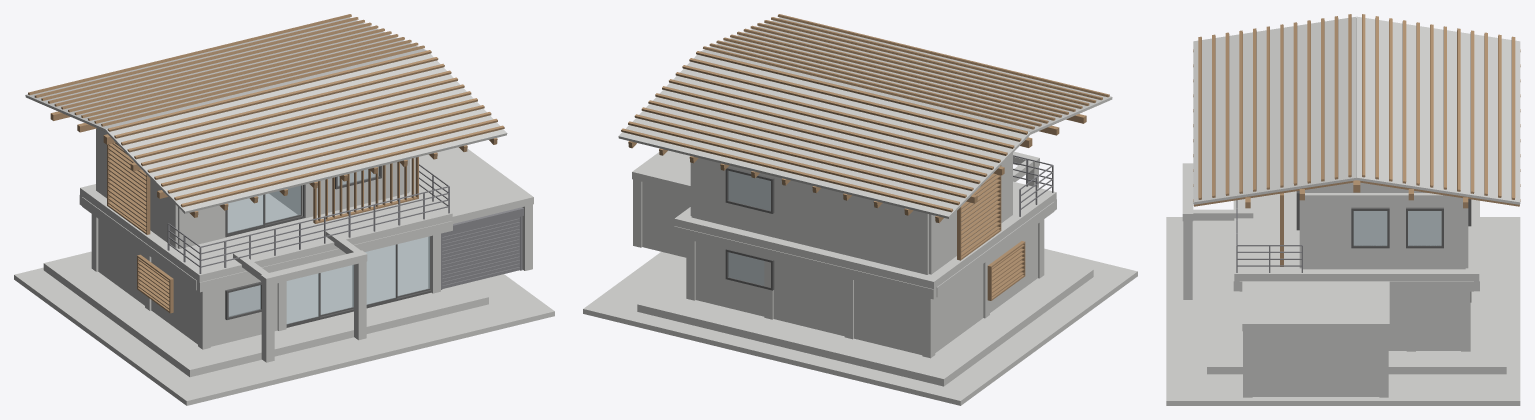
Rendered from casa_corrigida.glb.
3 views of the same model, side by side, from view 1: azimuth 30°, elevation 25°; view 2: azimuth 150°, elevation 25°; view 3: azimuth 270°, elevation 25° (orthographic). The views are drawn at different scales.
Visible parts, largest first — view 1: telhado_agua_frente, laje_terreo, base_inferior, laje_superior, telhado_agua_fundo, garagem_laje, garagem_portao, parede_terreo_esquerda, parede_terreo_frente_esq, brise_sup_esquerda, guarda_corpo_frente, brise_sup_frente (+46 smaller); view 2: telhado_agua_fundo, base_inferior, laje_terreo, parede_sup_fundo, parede_terreo_fundo, telhado_agua_frente, laje_superior, parede_terreo_esquerda, viga_laje_fundo, garagem_parede_fundo, brise_sup_esquerda, parede_sup_esquerda (+35 smaller); view 3: telhado_agua_frente, telhado_agua_fundo, base_inferior, laje_terreo, parede_sup_direita, garagem_parede_direita, laje_superior, garagem_laje, parede_terreo_direita, janela_sup_direita_1_vidro, janela_sup_direita_2_vidro, viga_laje_direita (+37 smaller).
Part boxes in pixels (x1,y1,x2,y2): telhado_agua_frente: [105, 53, 507, 213]; laje_terreo: [43, 241, 488, 377]; base_inferior: [14, 237, 554, 405]; laje_superior: [80, 183, 452, 282]; telhado_agua_fundo: [25, 17, 426, 131]; garagem_laje: [410, 147, 533, 223]; garagem_portao: [441, 207, 523, 289]; parede_terreo_esquerda: [98, 219, 197, 344]; parede_terreo_frente_esq: [210, 278, 277, 346]; brise_sup_esquerda: [107, 142, 150, 234]; guarda_corpo_frente: [199, 186, 449, 272]; brise_sup_frente: [313, 157, 418, 223]; telhado_agua_fundo: [618, 54, 1030, 218]; base_inferior: [583, 248, 1137, 405]; laje_terreo: [637, 257, 1093, 386]; parede_sup_fundo: [691, 158, 928, 274]; parede_terreo_fundo: [695, 241, 922, 354]; telhado_agua_frente: [700, 17, 1112, 134]; laje_superior: [674, 181, 1056, 289]; parede_terreo_esquerda: [935, 224, 1037, 352]; viga_laje_fundo: [674, 226, 936, 299]; garagem_parede_fundo: [642, 182, 690, 257]; brise_sup_esquerda: [957, 165, 1001, 260]; parede_sup_esquerda: [929, 153, 1012, 274]; telhado_agua_frente: [1193, 16, 1356, 204]; telhado_agua_fundo: [1357, 16, 1520, 204]; base_inferior: [1166, 217, 1520, 405]; laje_terreo: [1207, 217, 1506, 374]; parede_sup_direita: [1302, 193, 1465, 269]; garagem_parede_direita: [1252, 331, 1379, 396]; laje_superior: [1234, 191, 1479, 281]; garagem_laje: [1242, 281, 1389, 331]; parede_terreo_direita: [1388, 291, 1460, 350]; janela_sup_direita_1_vidro: [1353, 211, 1387, 245]; janela_sup_direita_2_vidro: [1408, 211, 1441, 245]; viga_laje_direita: [1239, 281, 1473, 291].
Bounding box in the file's own units: 16.7 × 8.66 × 13.02.
